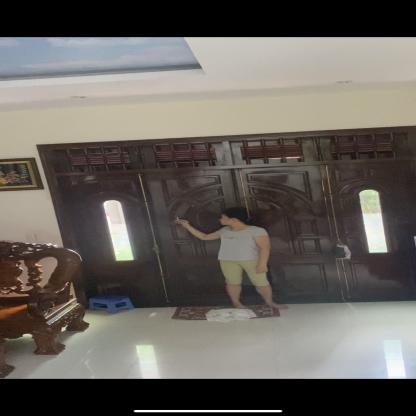cigarette: (176, 216, 180, 220)
person: (172, 198, 290, 314)
